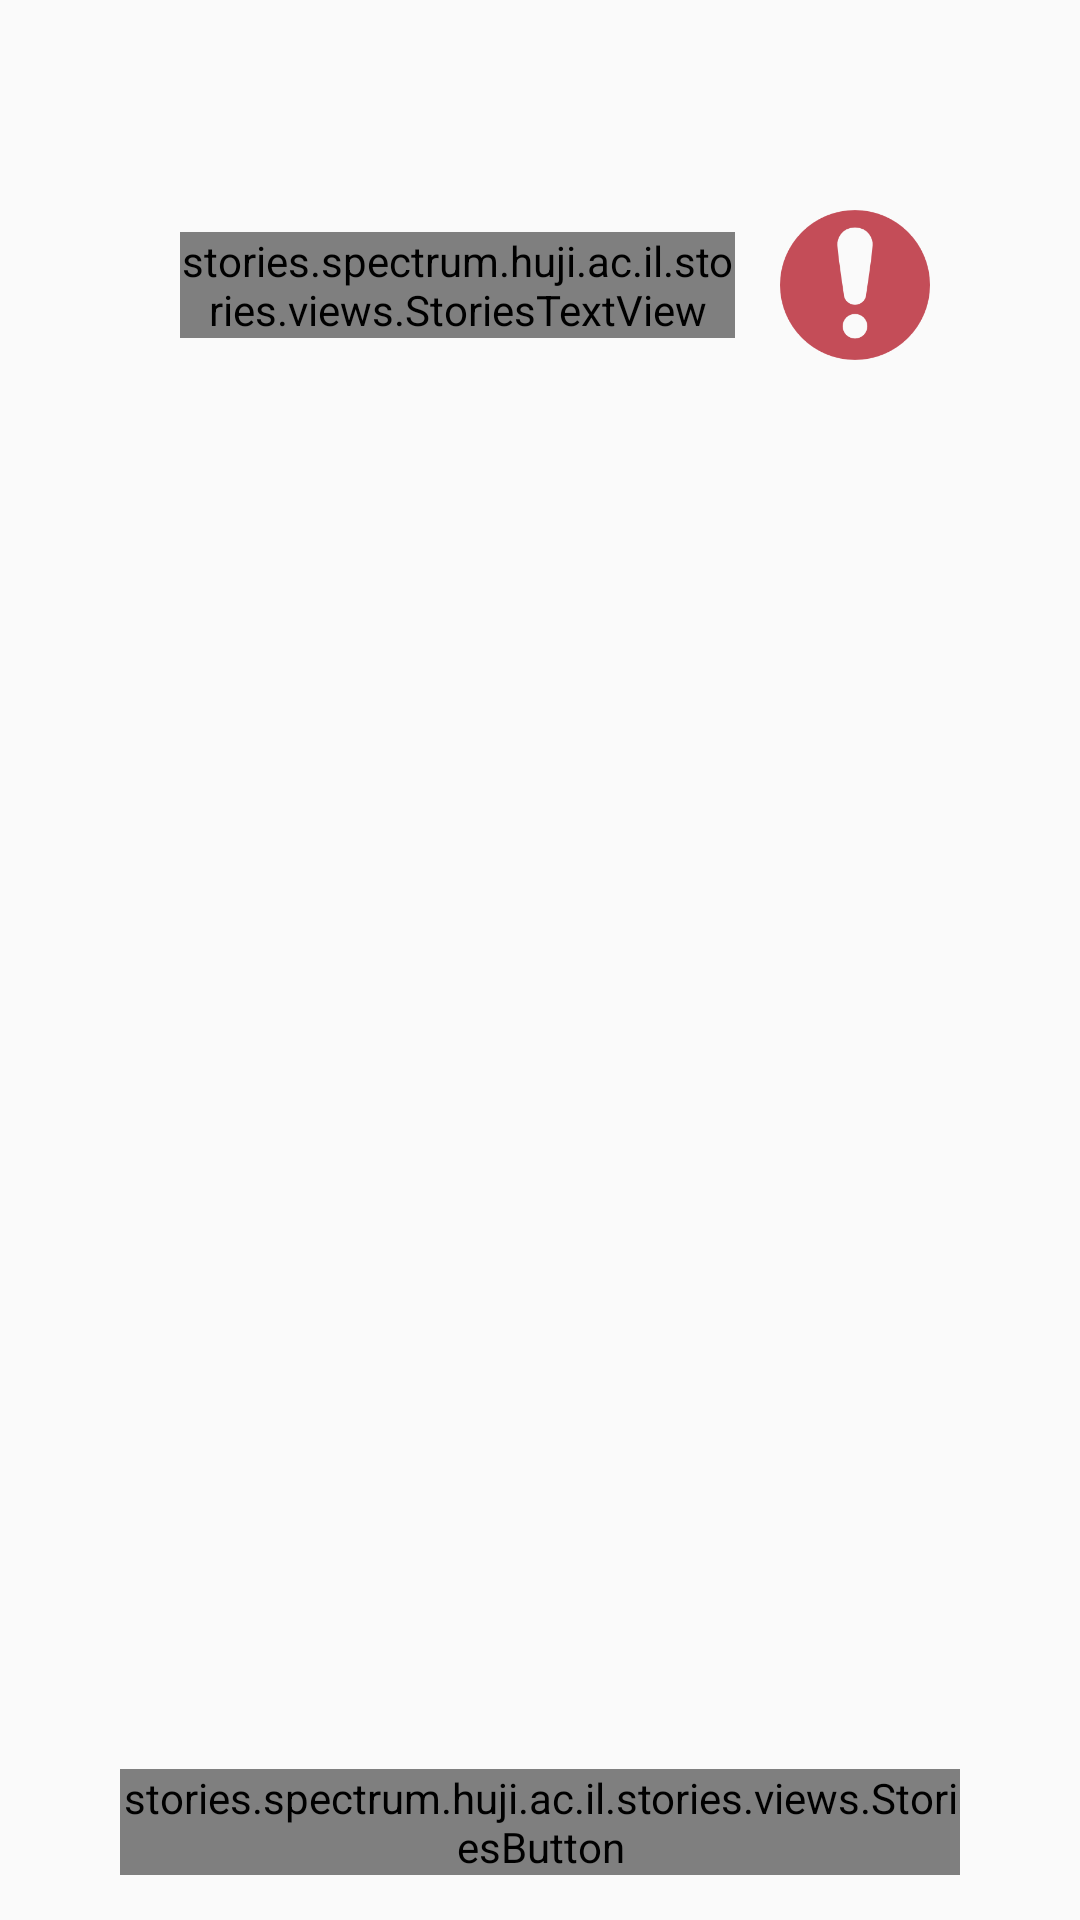

Icon click points for this 1080px x 1920px phone screenshot, format [x,y]:
exclamation mark: [855,285]
